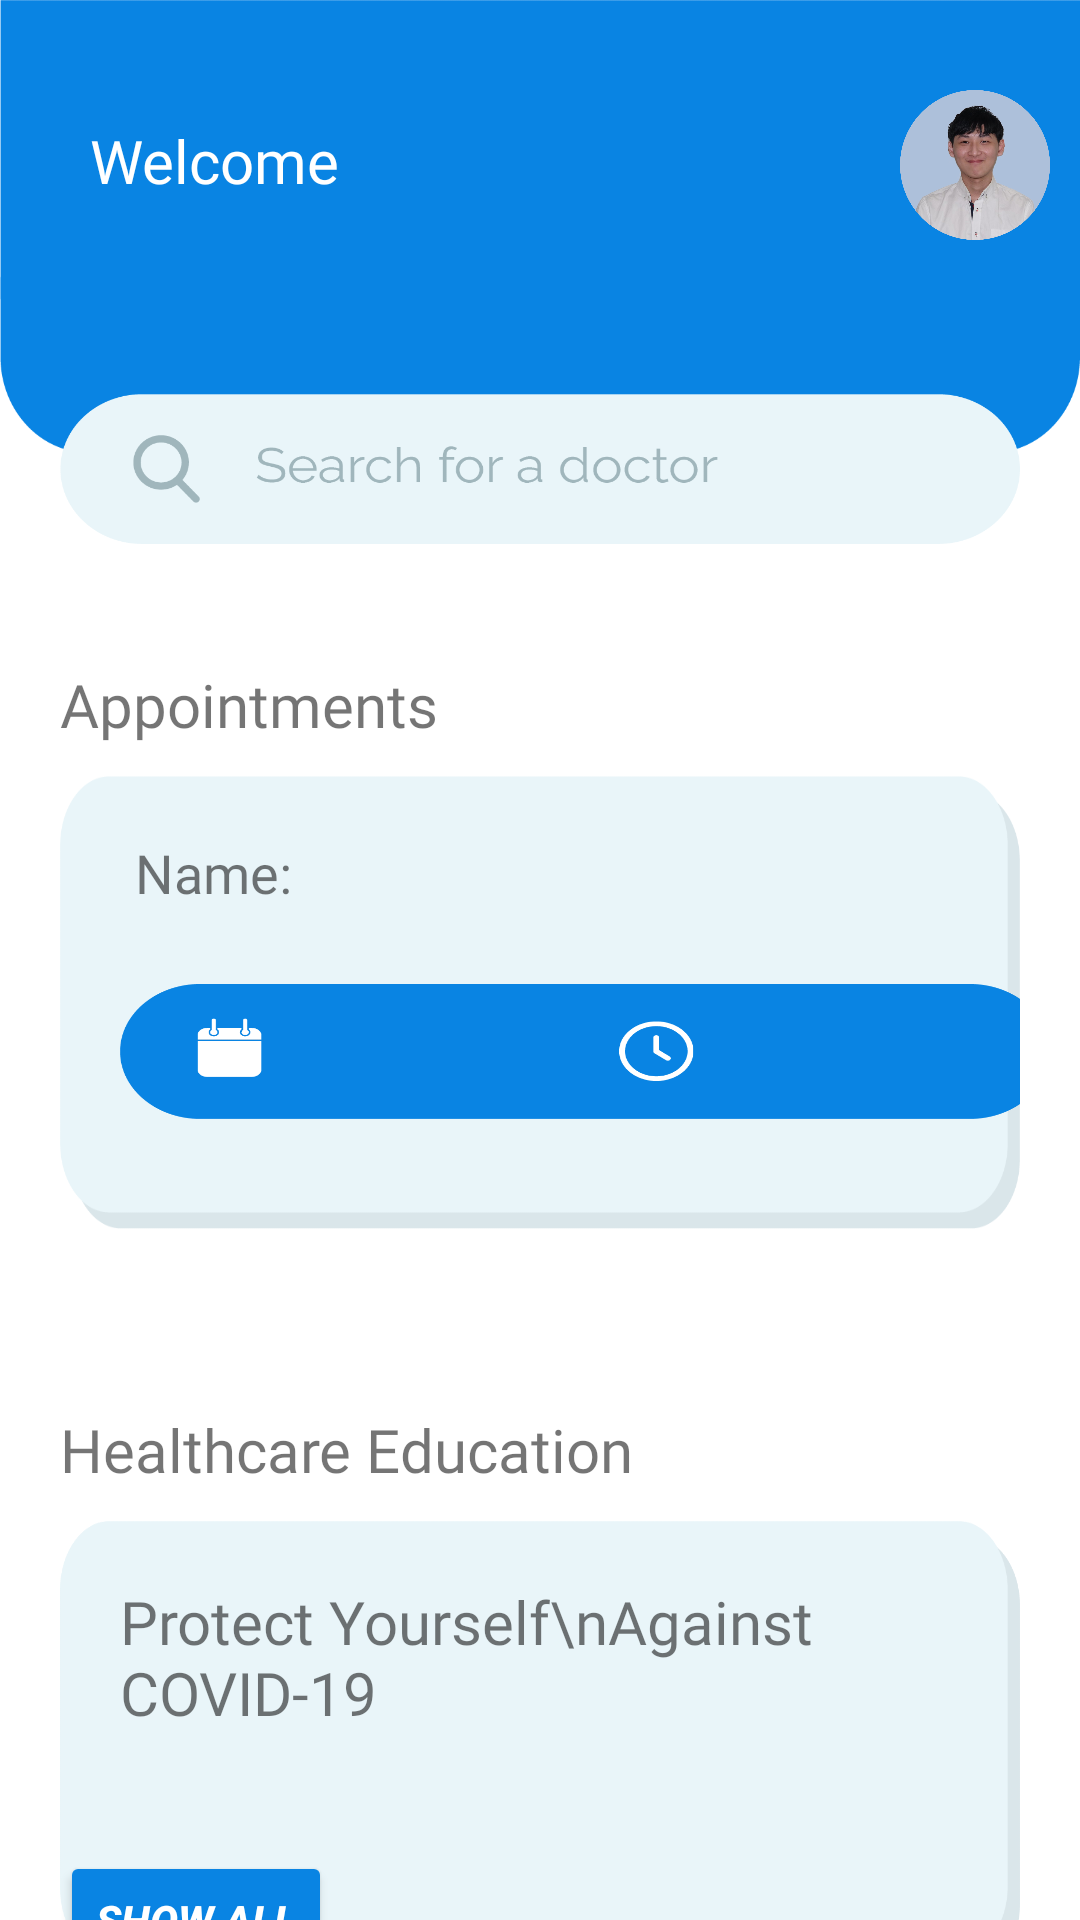

Icon click points for this 1080 × 1920 phone screenshot, format (x=x, y=y):
profilepic: (x=975, y=165)
